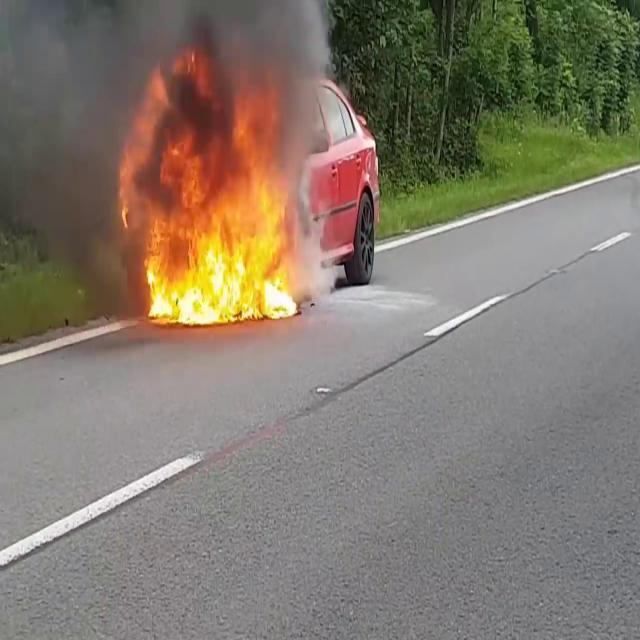Smoke: (118, 48, 298, 324)
